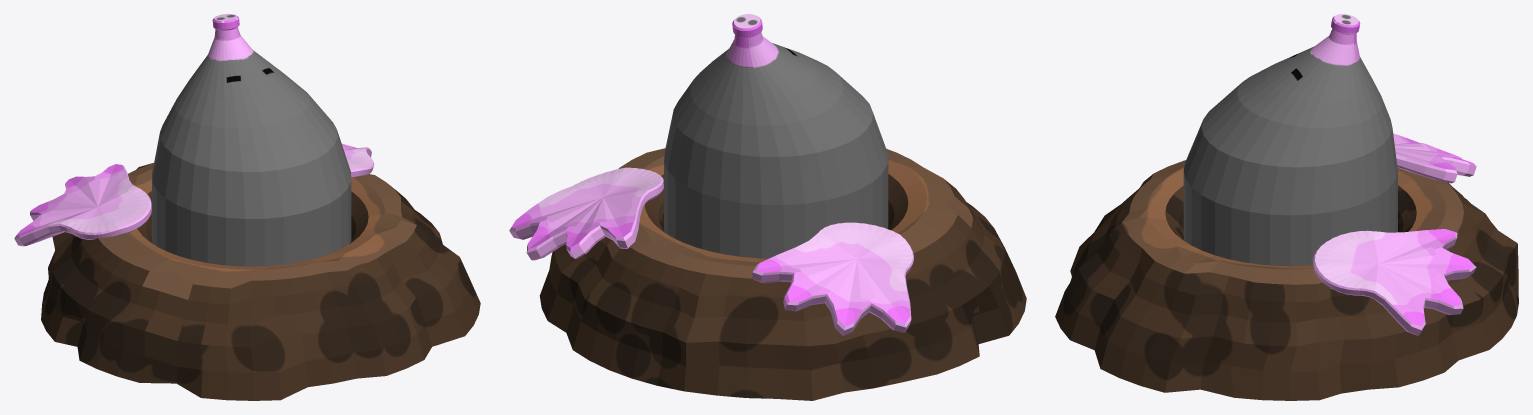
The model's file is Mole.fbx.
3 renders of one model, left to right at view 1: azimuth 30°, elevation 25°; view 2: azimuth 150°, elevation 25°; view 3: azimuth 270°, elevation 25°, orthographic. The views are drawn at different scales.
Visible parts, largest first — view 1: Burrow, Mole, Hands; view 2: Burrow, Mole, Hands; view 3: Burrow, Mole, Hands.
Boxes of the visible parts, left/top/right/bottom form: Burrow: left=41, top=163, right=480, bottom=400; Mole: left=152, top=14, right=351, bottom=266; Hands: left=14, top=144, right=374, bottom=246; Burrow: left=539, top=148, right=1026, bottom=400; Mole: left=664, top=14, right=888, bottom=258; Hands: left=509, top=167, right=913, bottom=335; Burrow: left=1055, top=160, right=1518, bottom=400; Mole: left=1183, top=14, right=1397, bottom=266; Hands: left=1313, top=133, right=1476, bottom=335.
Size of the model in its own units: 434 by 300 by 433.
3 materials, 3 textured.
